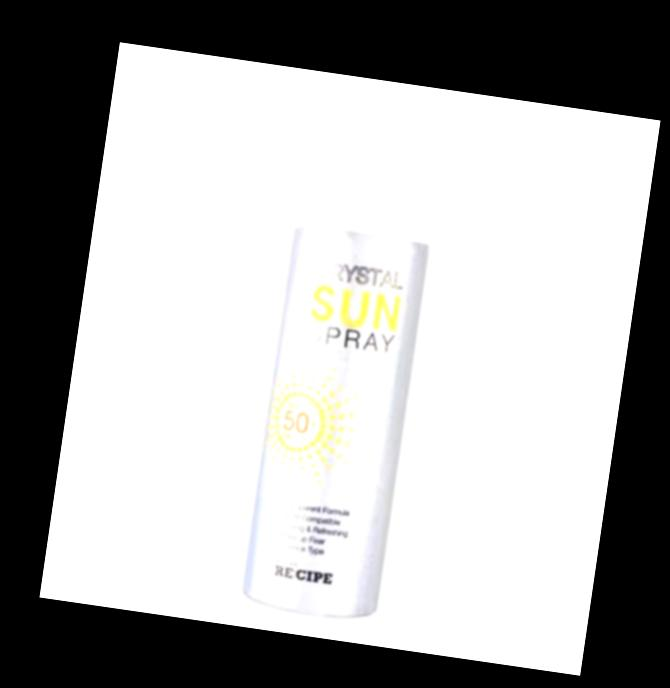cosmetic: (241, 96, 453, 623)
